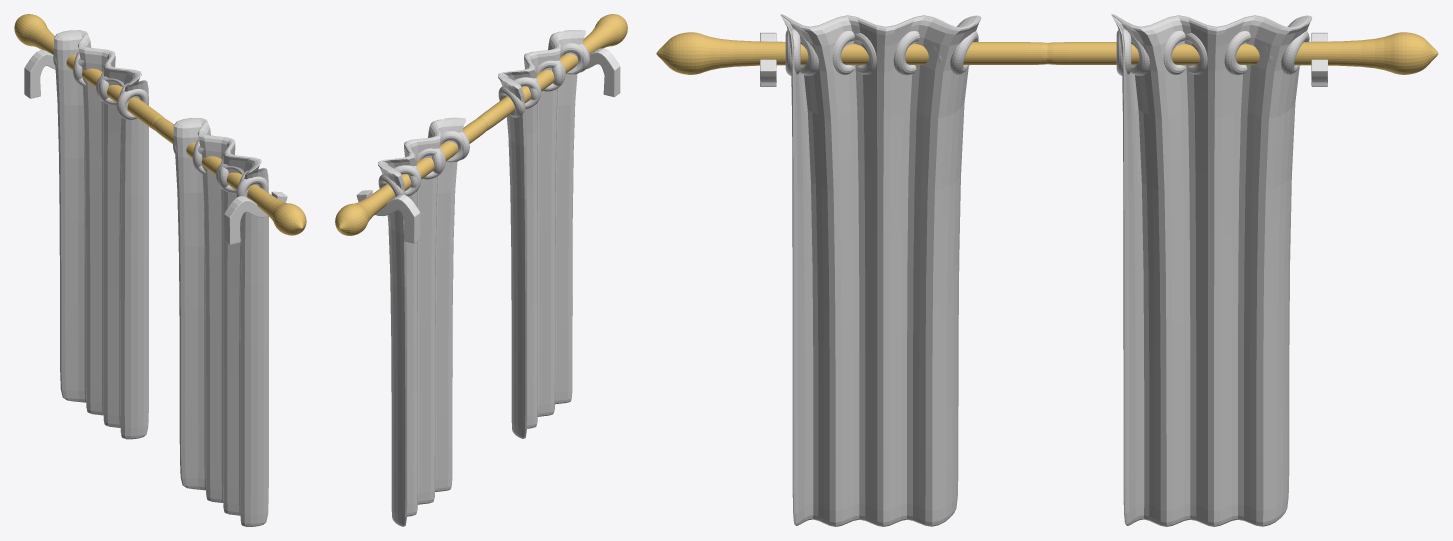
Rendered from Curtain3.fbx.
3 views of the same model, side by side, from view 1: azimuth 30°, elevation 25°; view 2: azimuth 150°, elevation 25°; view 3: azimuth 270°, elevation 25° (orthographic). The views are drawn at different scales.
Visible parts, largest first — view 1: Curtain_holder.003; view 2: Curtain_holder.003; view 3: Curtain_holder.003.
Part boxes in pixels (box(x1,y1,x2,y2)): Curtain_holder.003: box(14, 14, 306, 526); Curtain_holder.003: box(335, 14, 627, 526); Curtain_holder.003: box(656, 14, 1438, 526).
Size of the model in its own units: 25.05 by 150 by 211.
